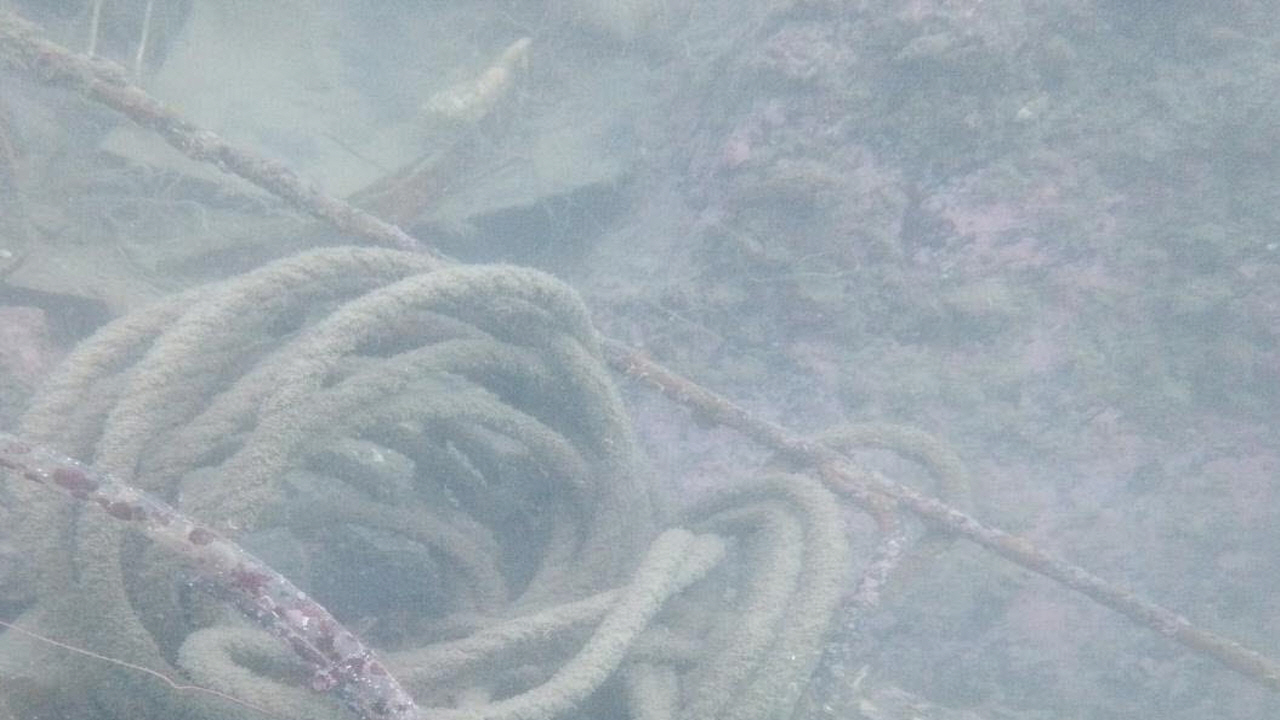bundle of ropes: (0, 239, 975, 720)
rope: (1, 6, 1280, 692)
